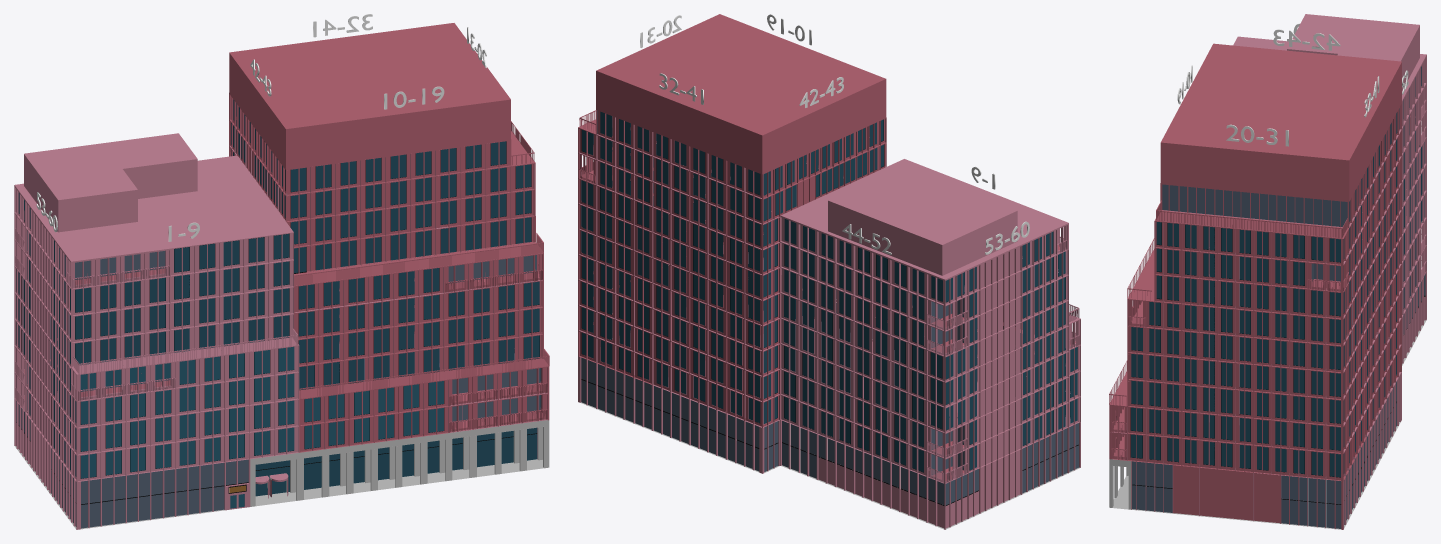
The model's file is R7Handyside.glb.
The picture shows the model from 3 angles, left to right: view 1: azimuth 30°, elevation 25°; view 2: azimuth 150°, elevation 25°; view 3: azimuth 270°, elevation 25°; orthographic projection. The views are drawn at different scales.
Visible parts, largest first — view 1: Building R7, Drop11, Drop12, Drop14, Drop13, Drop15, Drop10, Drop16, Drop17, Drop18, Drop5, Drop7 (+9 smaller); view 2: Building R7, Drop43, Drop37, Drop35, Drop39, Drop36, Drop38, Drop41, Drop33, Drop42, Drop40, Drop34 (+17 smaller); view 3: Building R7, Drop29, Drop22, Drop28, Drop25, Drop24, Drop26, Drop23, Drop30, Drop27, Drop31, Drop21 (+13 smaller).
Boxes of the visible parts, x1,y1,x2,y2 form: Building R7: [14, 23, 549, 529]; Drop11: [316, 164, 344, 445]; Drop12: [341, 161, 369, 442]; Drop14: [391, 154, 418, 435]; Drop13: [366, 158, 393, 439]; Drop15: [416, 151, 443, 432]; Drop10: [291, 167, 320, 448]; Drop16: [441, 148, 464, 421]; Drop17: [466, 144, 489, 419]; Drop18: [491, 141, 514, 415]; Drop5: [174, 247, 195, 465]; Drop7: [223, 240, 244, 458]; Building R7: [578, 14, 1080, 529]; Drop43: [780, 119, 883, 213]; Drop37: [674, 140, 686, 394]; Drop35: [637, 126, 649, 379]; Drop39: [711, 155, 723, 408]; Drop36: [656, 133, 668, 387]; Drop38: [693, 148, 705, 401]; Drop41: [748, 169, 760, 423]; Drop33: [600, 111, 612, 365]; Drop42: [763, 167, 778, 423]; Drop40: [730, 162, 741, 416]; Drop34: [619, 119, 630, 372]; Building R7: [1109, 14, 1426, 529]; Drop29: [1293, 197, 1312, 473]; Drop22: [1167, 185, 1186, 461]; Drop28: [1275, 195, 1294, 472]; Drop25: [1221, 190, 1240, 466]; Drop24: [1203, 188, 1222, 465]; Drop26: [1239, 192, 1258, 468]; Drop23: [1185, 187, 1204, 463]; Drop30: [1311, 199, 1330, 475]; Drop27: [1257, 193, 1276, 470]; Drop31: [1330, 200, 1347, 477]; Drop21: [1149, 184, 1168, 460].
Bounding box in the file's own units: 58.09 × 44.83 × 33.92.
